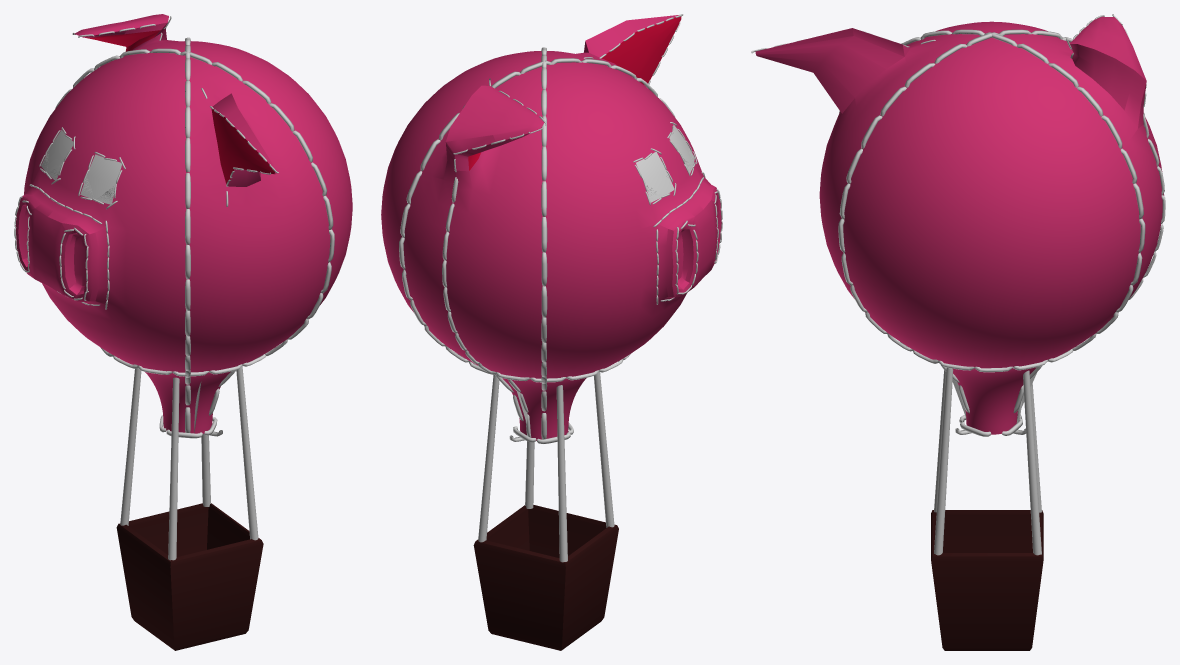
Rendered from globo cerdo.fbx.
3 views of the same model, side by side, from view 1: azimuth 30°, elevation 25°; view 2: azimuth 150°, elevation 25°; view 3: azimuth 270°, elevation 25° (orthographic). The views are drawn at different scales.
Visible parts, largest first — view 1: Mesh (2), Mesh, Cuerdas; view 2: Mesh (2), Mesh, Cuerdas; view 3: Mesh (2), Mesh, Cuerdas.
Boxes of the visible parts, x1,y1,x2,y2 form: Mesh (2): (15, 14, 352, 433); Mesh: (116, 503, 263, 650); Cuerdas: (120, 366, 258, 560); Mesh (2): (381, 15, 721, 440); Mesh: (473, 505, 618, 650); Cuerdas: (478, 372, 614, 562); Mesh (2): (755, 16, 1164, 434); Mesh: (931, 510, 1043, 650); Cuerdas: (934, 367, 1041, 555).
Bounding box in the file's own units: 319 × 588 × 364.
